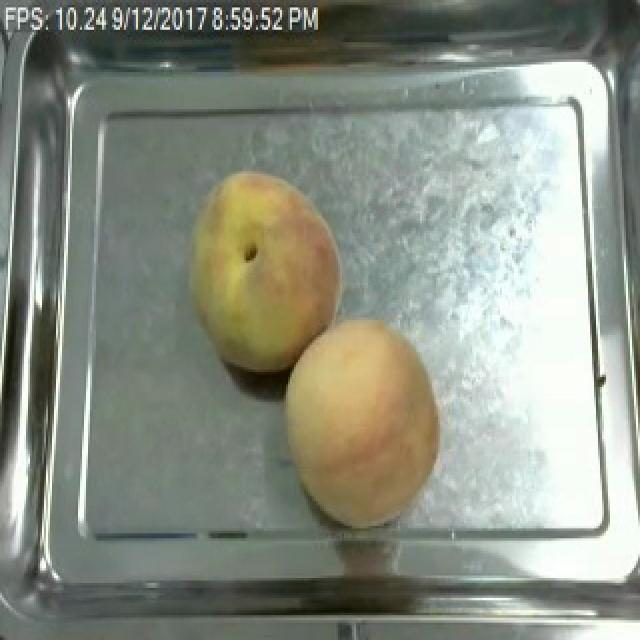Fruit: (276, 308, 452, 533), (176, 161, 352, 380)
